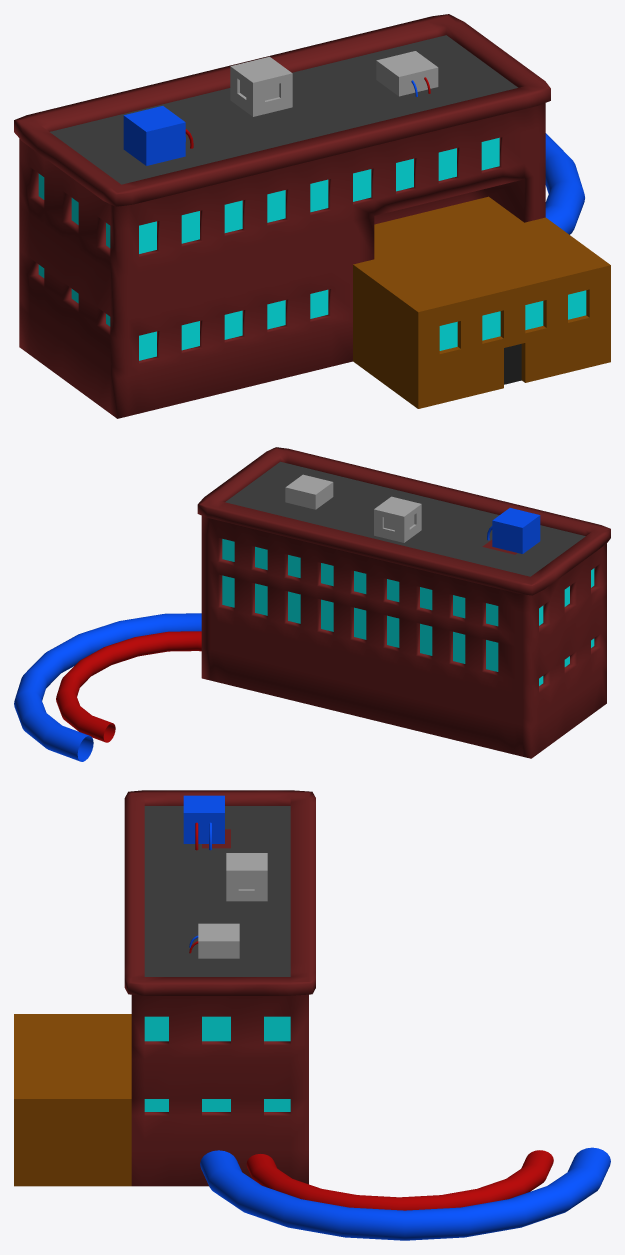
Rendered from factory2.fbx.
3 views of the same model, one above another, from view 1: azimuth 30°, elevation 25°; view 2: azimuth 150°, elevation 25°; view 3: azimuth 270°, elevation 25° (orthographic). The views are drawn at different scales.
Parts seen in each view (by area): view 1: pCube5 (×9); view 2: pCube5 (×7); view 3: pCube5 (×8).
Part boxes in pixels (x1,y1,x2,y2): pCube5 (×9): [14, 14, 610, 418]; pCube5 (×7): [14, 447, 610, 761]; pCube5 (×8): [14, 790, 610, 1240].
Bounding box in the file's own units: 87.11 × 35.56 × 84.61.
